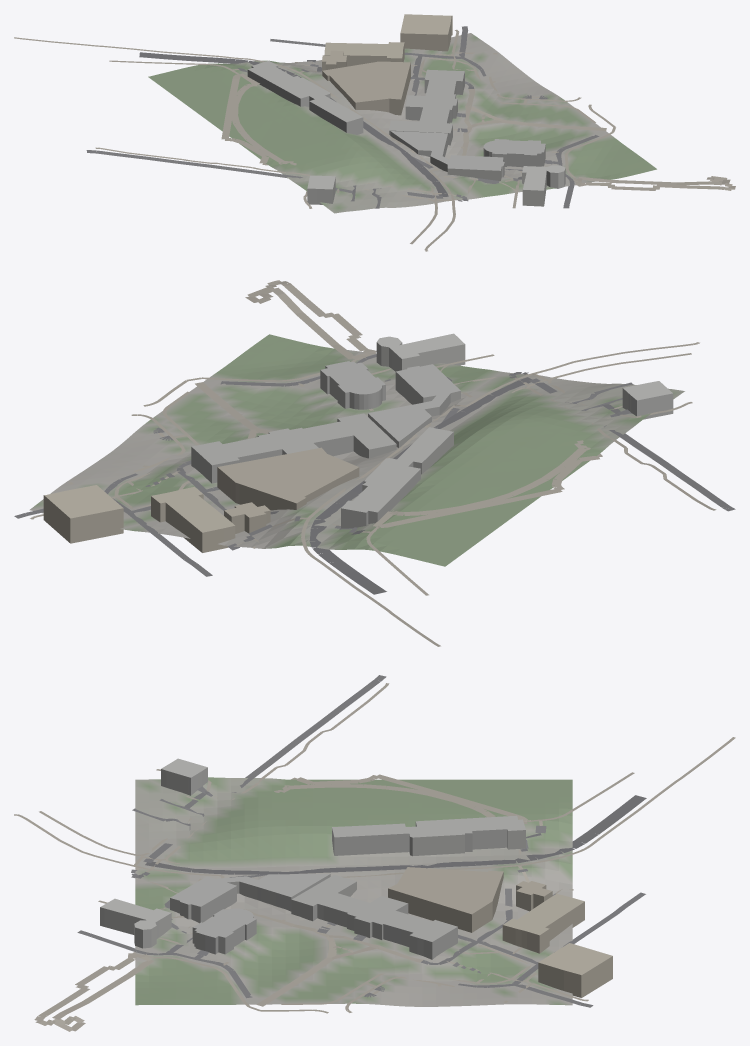
Rendered from tile_-8_-1.glb.
The picture shows the model from 3 angles, top to bottom: view 1: azimuth 30°, elevation 25°; view 2: azimuth 150°, elevation 25°; view 3: azimuth 270°, elevation 25°; orthographic projection. The views are drawn at different scales.
Parts seen in each view (by area): view 1: terrain, buildings, roads; view 2: terrain, buildings, roads; view 3: terrain, buildings, roads.
Part boxes in pixels (x1,y1,x2,y2): terrain: [148, 33, 656, 213]; buildings: [247, 14, 565, 206]; roads: [14, 26, 735, 251]; terrain: [29, 334, 684, 566]; buildings: [43, 333, 673, 552]; roads: [14, 280, 735, 646]; terrain: [135, 777, 572, 1006]; buildings: [100, 758, 612, 997]; roads: [14, 675, 735, 1031].
Size of the model in its own units: 405 by 42.04 by 422.
